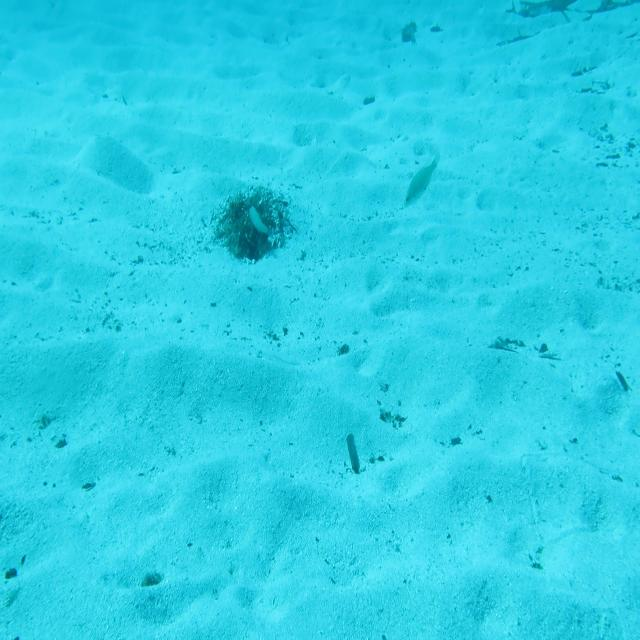FAN: (248, 203, 275, 240)
female: (401, 157, 443, 211)
nest: (217, 189, 301, 273)
vegetation: (516, 0, 571, 20), (488, 330, 525, 357), (345, 434, 362, 478), (132, 572, 160, 595), (614, 370, 631, 397), (401, 24, 417, 44)
